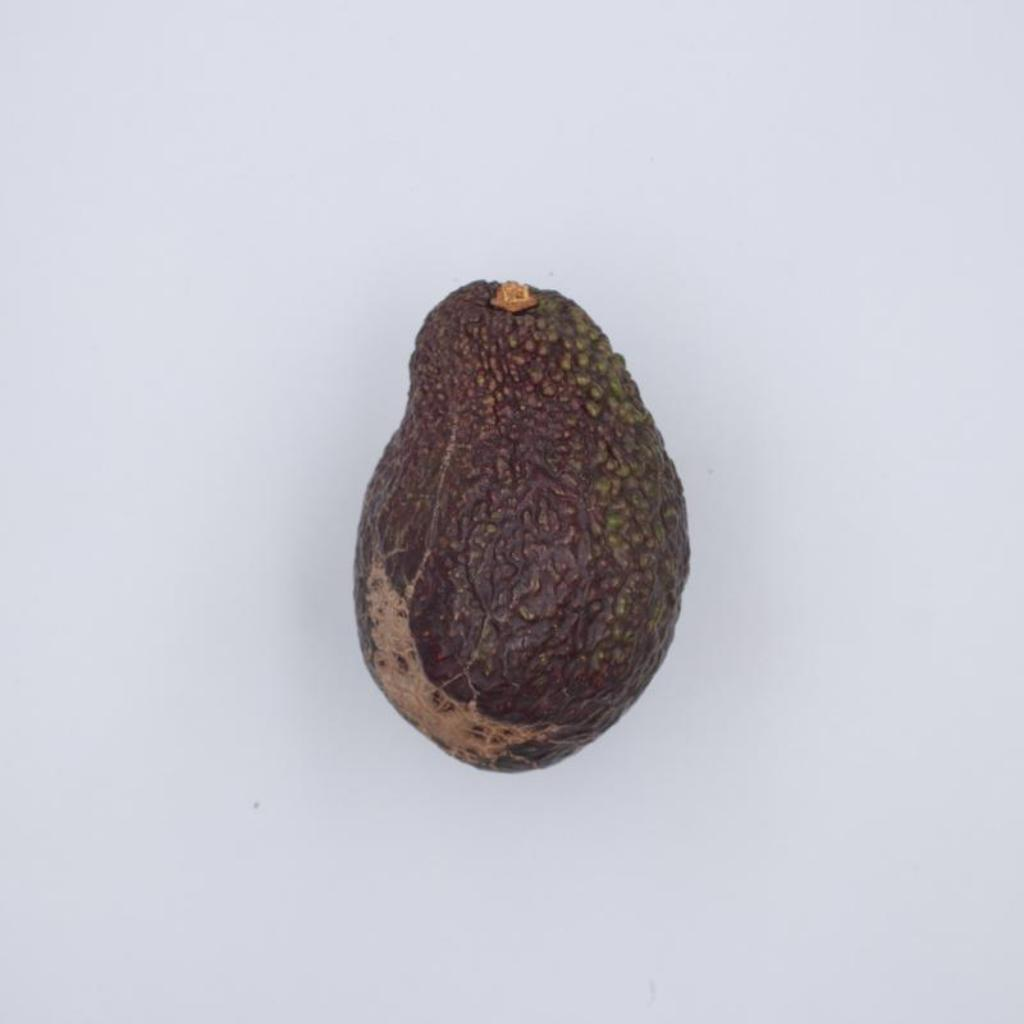rona: (357, 282, 689, 771)
